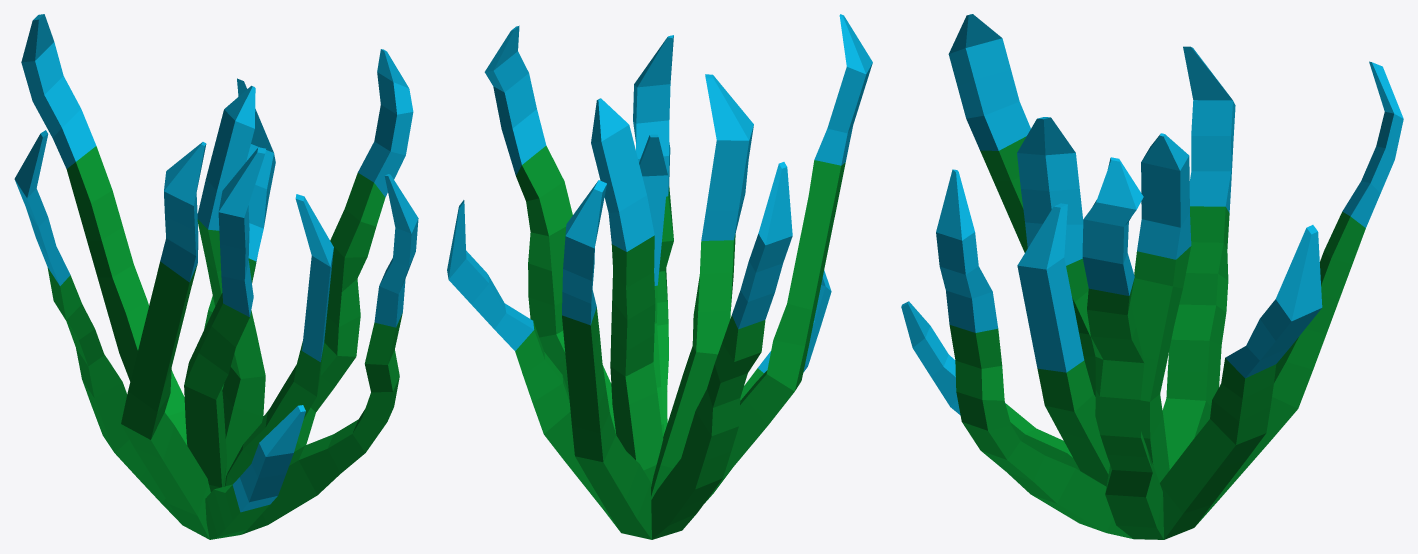
Rendered from Lifeleaf.fbx.
3 views of the same model, side by side, from view 1: azimuth 30°, elevation 25°; view 2: azimuth 150°, elevation 25°; view 3: azimuth 270°, elevation 25° (orthographic).
Visible parts, largest first — view 1: Cube; view 2: Cube; view 3: Cube.
Part boxes in pixels (x1,y1,x2,y2): Cube: [14, 14, 418, 539]; Cube: [447, 14, 872, 539]; Cube: [901, 14, 1403, 539].
Bounding box in the file's own units: 65.69 × 87.49 × 84.86.
